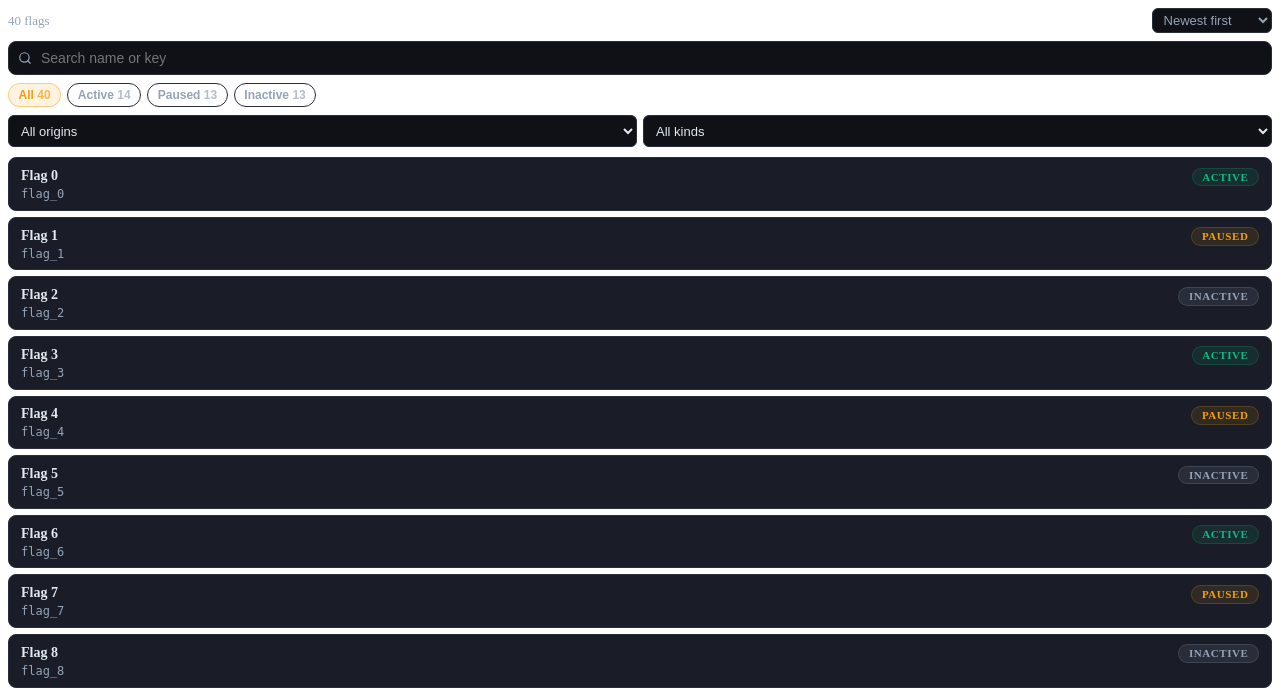
Test: FlagList › filters by status chip and origin, with counts on the chips
The width and height of the screenshot is (1280, 694).
Click the button "Paused 13": {"x": 188, "y": 95} [147,83,228,107]
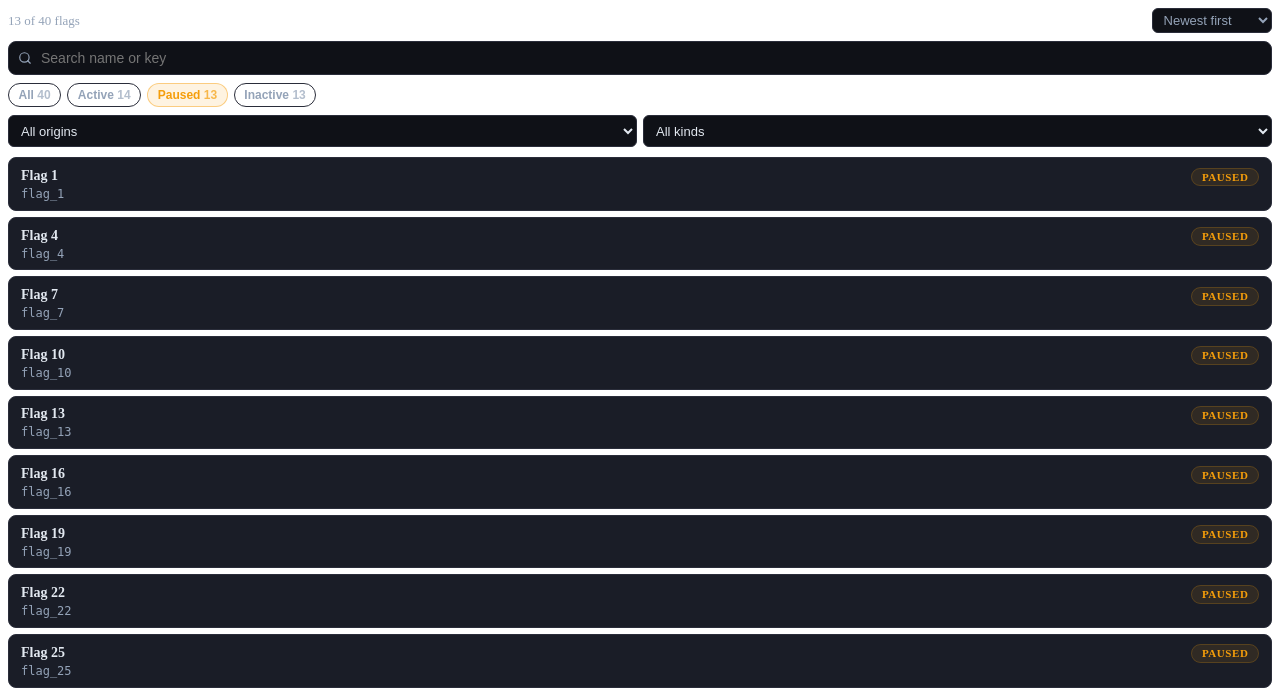
Now the number of list items is 13
Select "Auto-detected" in the dropdown named "Origin": {"x": 322, "y": 131} [8,115,637,147]
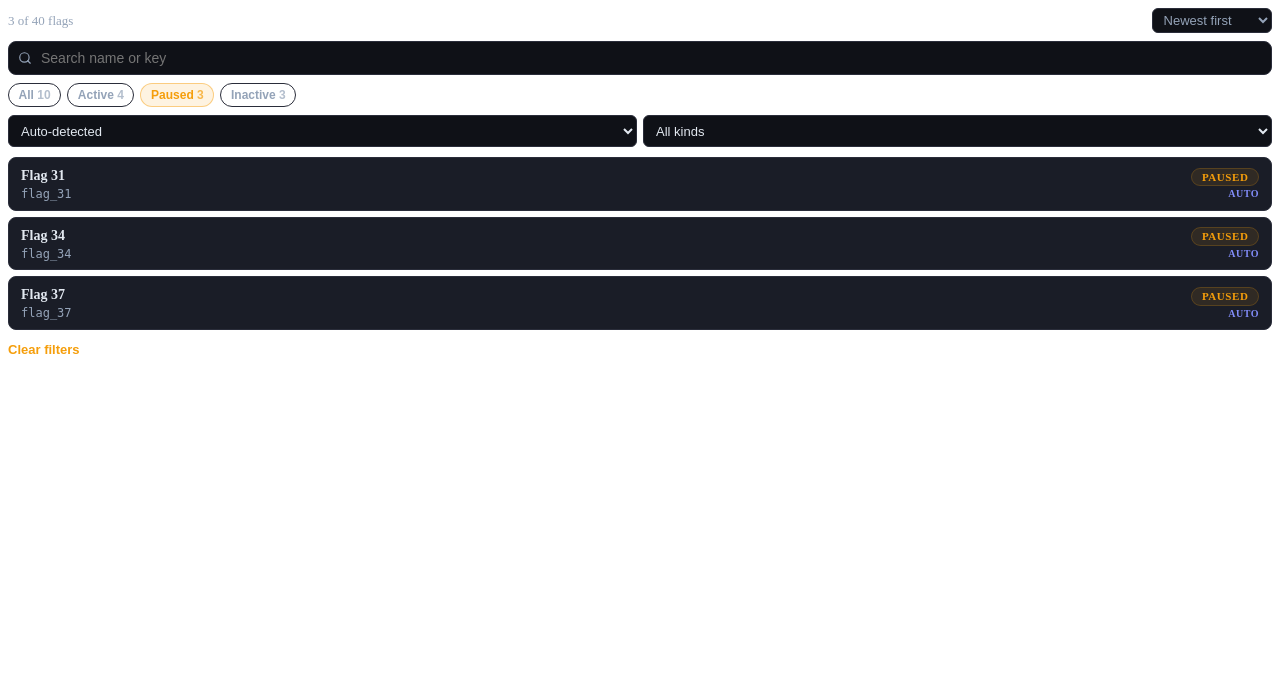
Now the number of list items is 3, box [8,157,1272,211]; [8,217,1272,270]; [8,276,1272,330]
